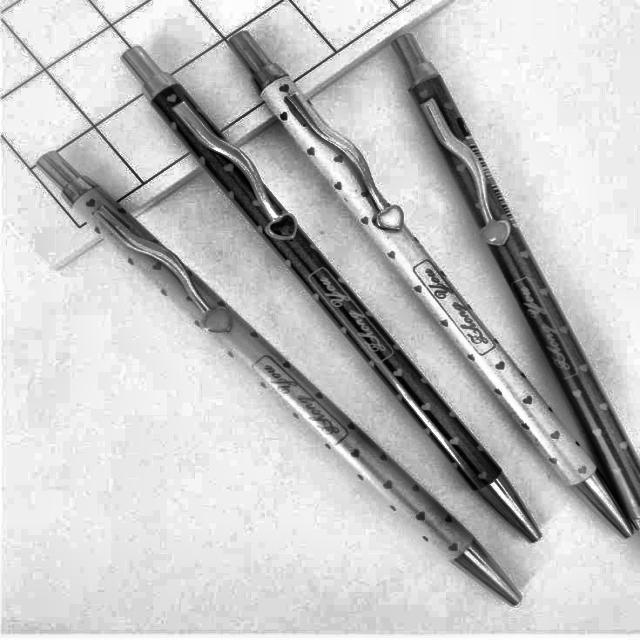Pen: (120, 48, 536, 543), (395, 35, 640, 537)
